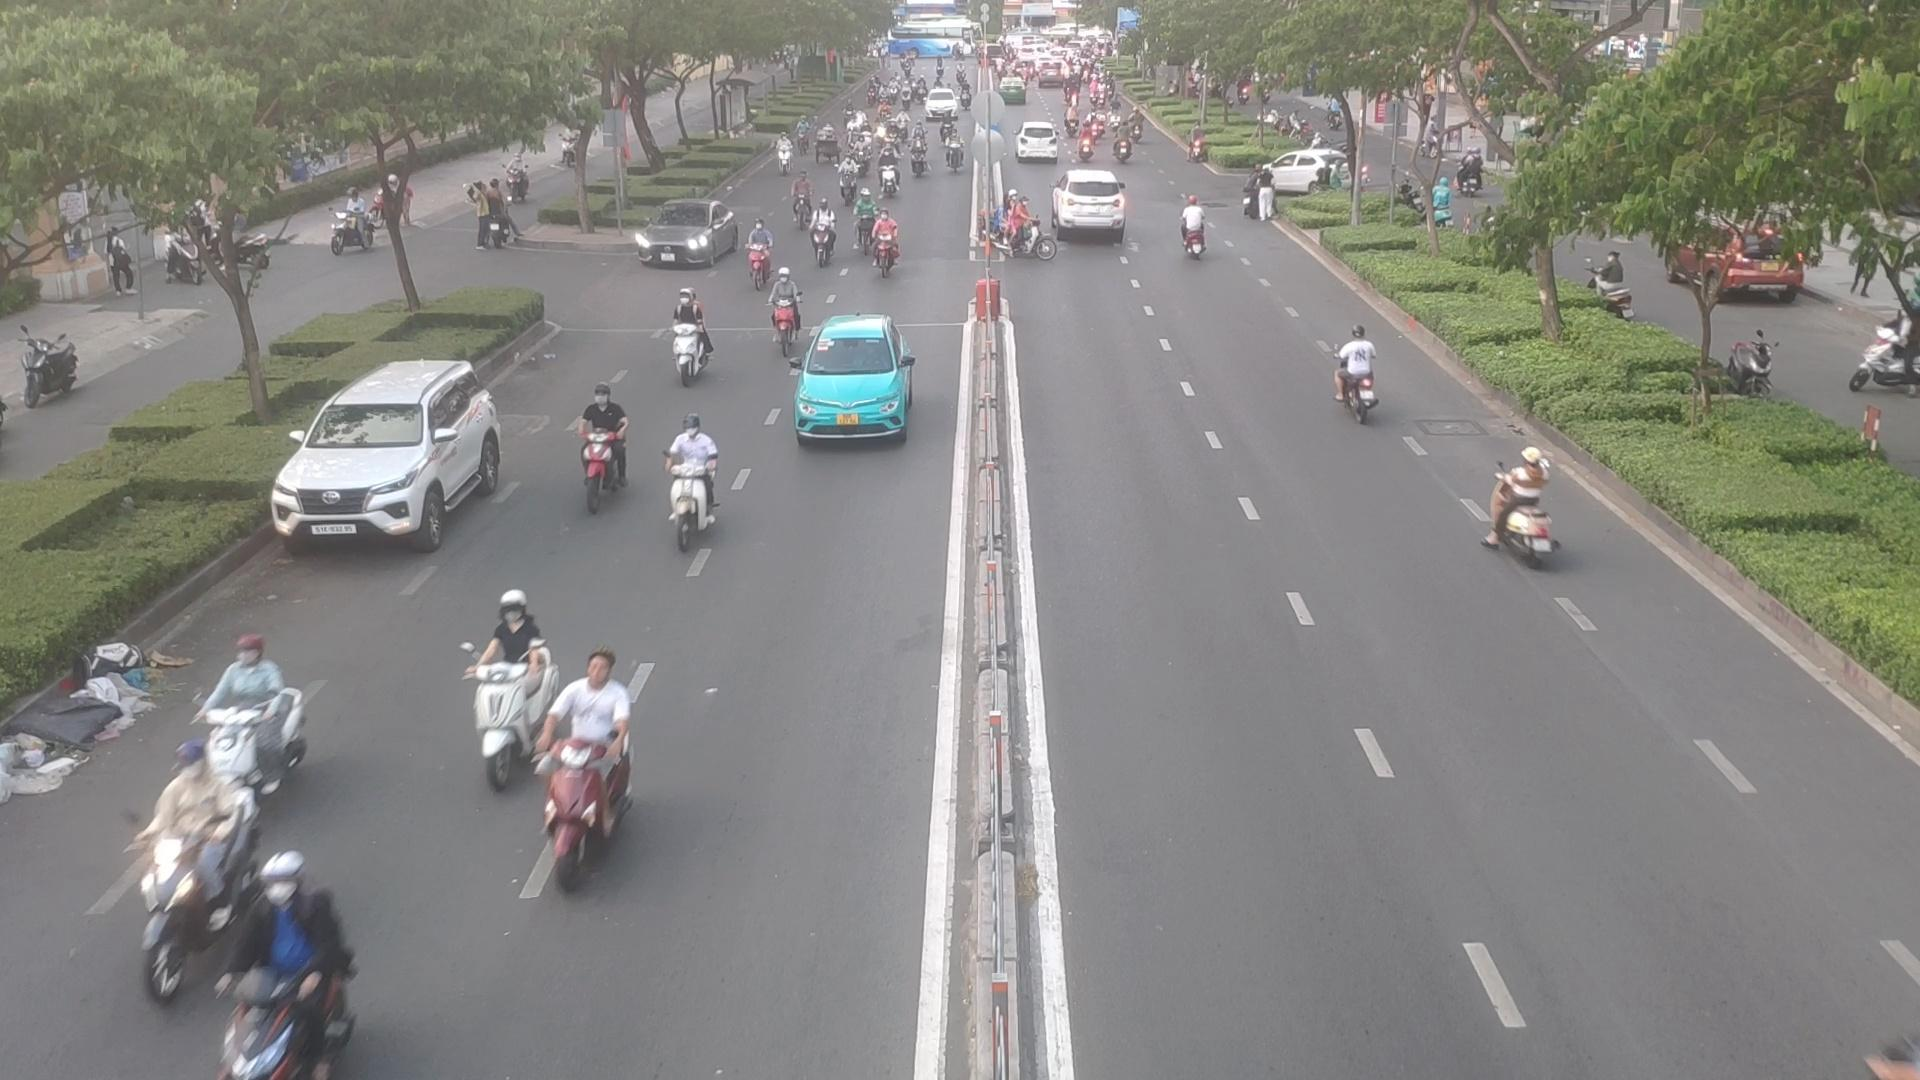car: (272, 363, 506, 555), (795, 314, 916, 447), (632, 204, 742, 269), (1056, 171, 1131, 232), (1265, 149, 1353, 193), (1015, 124, 1060, 162)
motorbike: (94, 733, 266, 992), (539, 644, 666, 858), (173, 622, 311, 800), (251, 862, 368, 1054), (463, 593, 549, 795), (1486, 435, 1557, 580), (667, 413, 741, 545), (583, 371, 633, 525), (661, 289, 712, 386), (1341, 314, 1381, 431), (764, 268, 795, 349), (1180, 193, 1209, 261), (752, 218, 775, 291), (786, 174, 816, 229), (814, 206, 839, 272), (851, 189, 874, 252), (872, 216, 897, 274), (837, 156, 864, 208), (1073, 115, 1104, 160), (878, 141, 899, 199), (942, 129, 968, 174), (775, 135, 800, 175), (853, 131, 876, 170), (910, 135, 928, 178)
